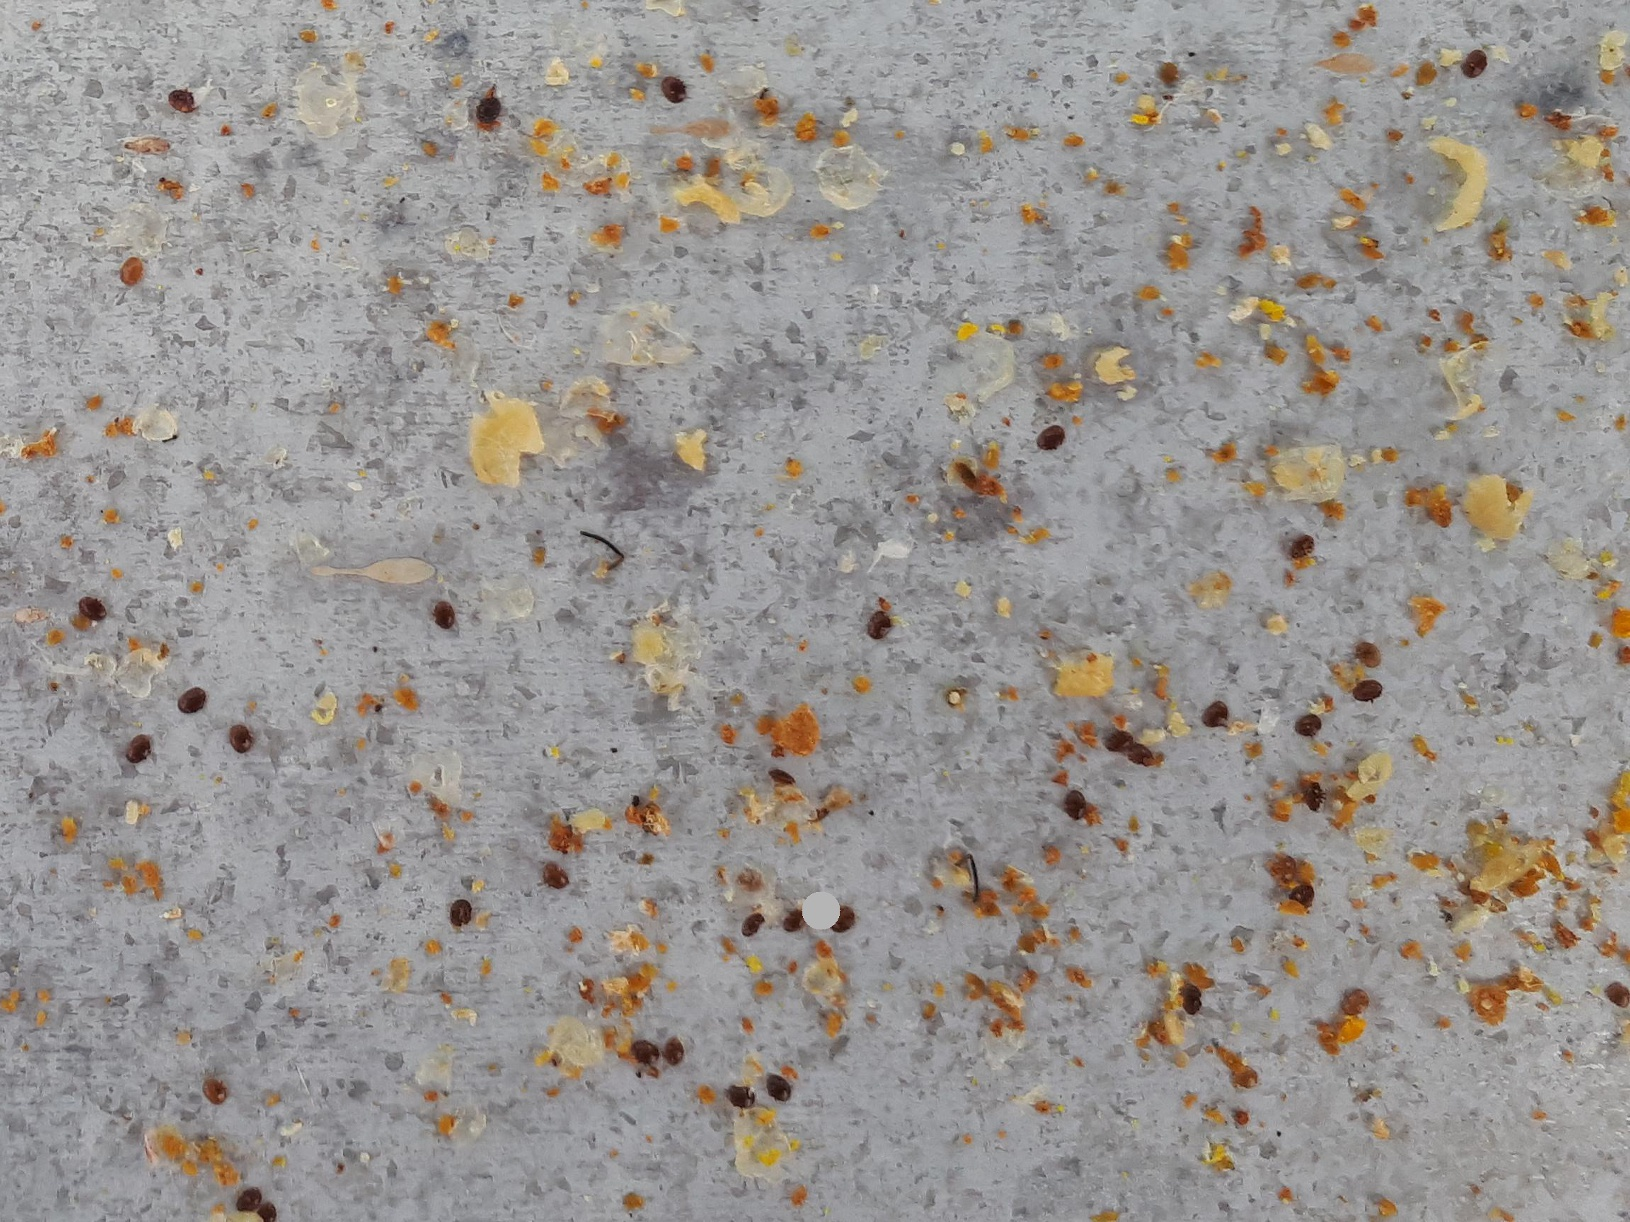Varroa: (110, 253, 149, 291), (1120, 736, 1159, 773), (195, 1071, 234, 1108), (625, 1028, 664, 1065), (820, 899, 859, 936), (773, 897, 811, 934), (1334, 981, 1372, 1018), (1295, 780, 1334, 818), (468, 90, 506, 127), (1195, 694, 1232, 732), (1097, 720, 1135, 757), (655, 1028, 692, 1065), (723, 1074, 760, 1112), (535, 857, 572, 895), (1173, 990, 1210, 1027), (227, 1178, 264, 1216), (1283, 872, 1319, 909), (1289, 715, 1322, 753), (1280, 538, 1314, 570), (223, 719, 254, 752), (1350, 673, 1382, 703), (74, 594, 107, 625), (175, 685, 207, 716), (1059, 789, 1090, 822), (119, 733, 151, 764), (445, 899, 476, 929), (652, 71, 682, 101), (1173, 985, 1203, 1015), (1032, 421, 1061, 451), (169, 85, 198, 114), (1459, 47, 1486, 78), (436, 603, 465, 632), (738, 917, 766, 945), (861, 614, 888, 642), (765, 1074, 792, 1103)
